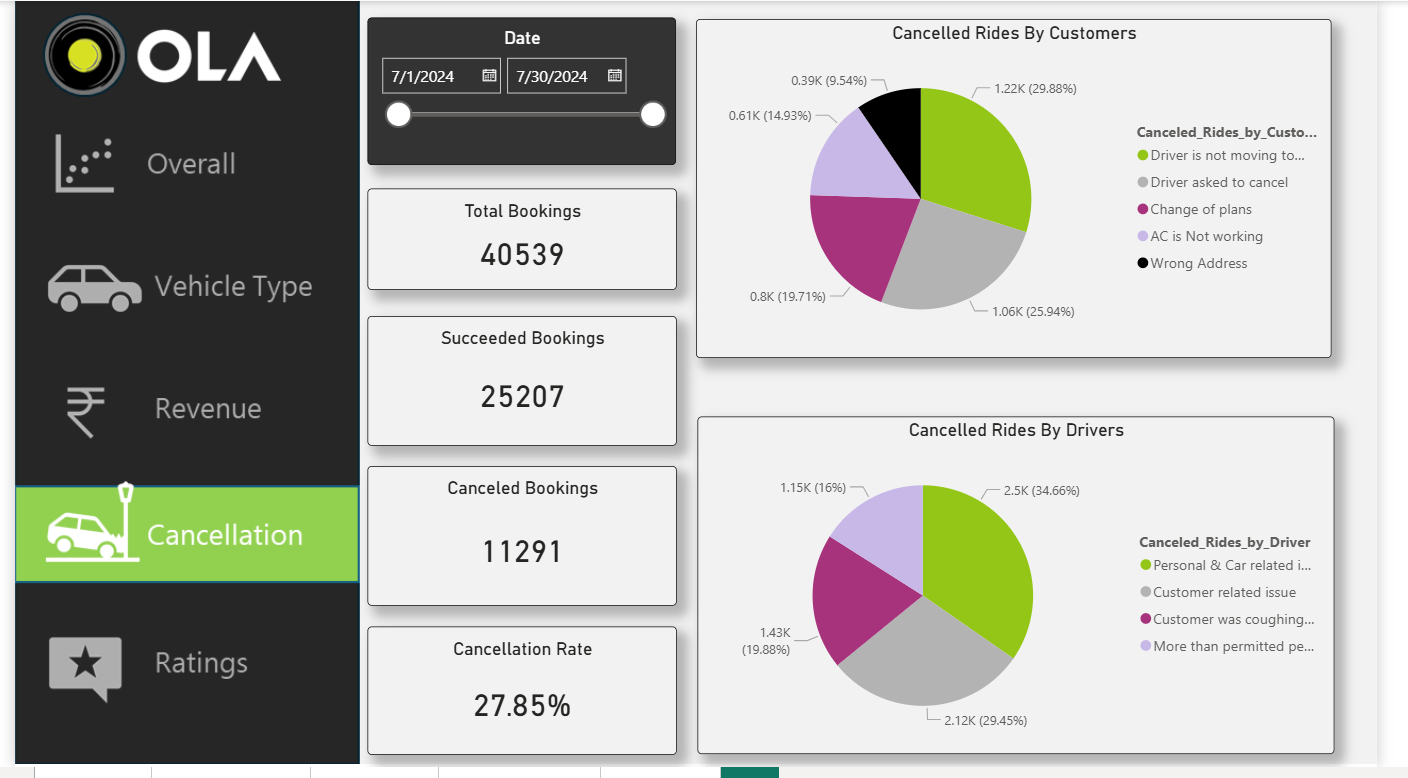

Layout of this report page (visuals, bound fields, positions):
{"tool":"powerbi","page":{"name":"Cancellation","canvas":[1280,720],"ordinal":3},"visuals":[{"type":"actionButton","box":[0,220.4,320.4,90.7],"z":0},{"type":"actionButton","box":[1.6,326.7,320.4,90.7],"z":1000},{"type":"actionButton","box":[0,576.7,320.4,90.7],"z":2000},{"type":"actionButton","box":[1.6,106.3,320.4,90.7],"z":3000},{"type":"actionButton","box":[0,458,320.4,90.7],"z":4000},{"type":"pieChart","title":"Cancelled Rides By Customers","fields":{"Category":["ola_bookings.Canceled_Rides_by_Customer"],"Y":["CountNonNull(ola_bookings.Canceled_Rides_by_Customer)"]},"box":[640.5,17.5,597.5,318.7],"z":5000},{"type":"pieChart","title":"Cancelled Rides By Drivers","fields":{"Category":["ola_bookings.Canceled_Rides_by_Driver"],"Y":["CountNonNull(ola_bookings.Canceled_Rides_by_Driver)"]},"box":[640.8,390.7,598.6,317.3],"z":6000},{"type":"slicer","title":"Date","fields":{"Values":["ola_bookings.Date"]},"box":[331.4,15.9,290,138.6],"z":7000},{"type":"card","title":"Total Bookings","fields":{"Values":["CountNonNull(ola_bookings.Booking_ID)"]},"box":[331.4,176.6,290.7,95.3],"z":8000},{"type":"card","title":"Succeeded Bookings","fields":{"Values":["CountNonNull(ola_bookings.Booking_ID)"]},"box":[331.4,295.4,290.7,121.9],"z":9000},{"type":"card","title":"Canceled Bookings","fields":{"Values":["CountNonNull(ola_bookings.Booking_ID)"]},"box":[331.4,437.6,290.7,131.3],"z":10000},{"type":"card","title":"Cancellation Rate","fields":{"Values":["ola_bookings.CanceledPercentage"]},"box":[331.4,587.7,290.7,120.4],"z":11000}]}

Visuals, with their boxes in screenshot pixels (x1, y1, x2, y2), scaled from the page's 1280x720 canvas onto the 1408x778 screenshot:
actionButton: 0 238 352 336
actionButton: 2 353 354 451
actionButton: 0 623 352 721
actionButton: 2 115 354 213
actionButton: 0 495 352 593
"Cancelled Rides By Customers" pieChart: 705 19 1362 363
"Cancelled Rides By Drivers" pieChart: 705 422 1363 765
"Date" slicer: 365 17 684 167
"Total Bookings" card: 365 191 684 294
"Succeeded Bookings" card: 365 319 684 451
"Canceled Bookings" card: 365 473 684 615
"Cancellation Rate" card: 365 635 684 765
